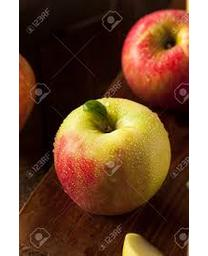apple: (52, 97, 170, 216), (121, 9, 188, 110)
